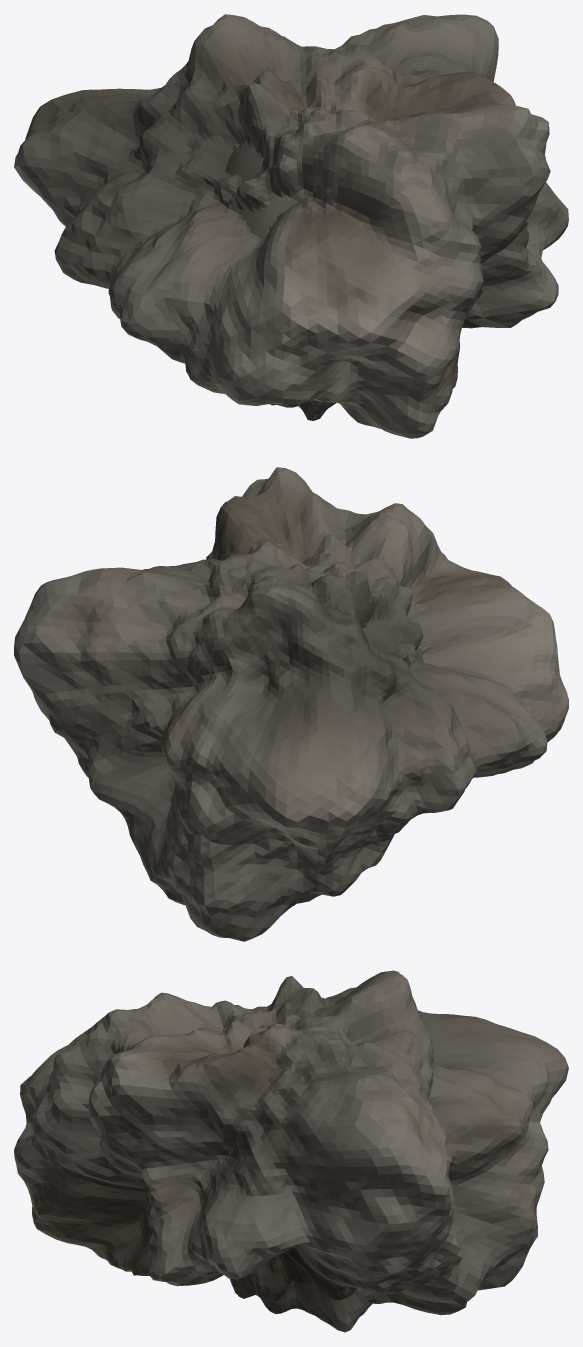
Rendered from asteroid.obj.
3 renders of one model, top to bottom at view 1: azimuth 30°, elevation 25°; view 2: azimuth 150°, elevation 25°; view 3: azimuth 270°, elevation 25°, orthographic. The views are drawn at different scales.
Size of the model in its own units: 2.64 by 1.92 by 3.02.
1 material, 1 textured.
